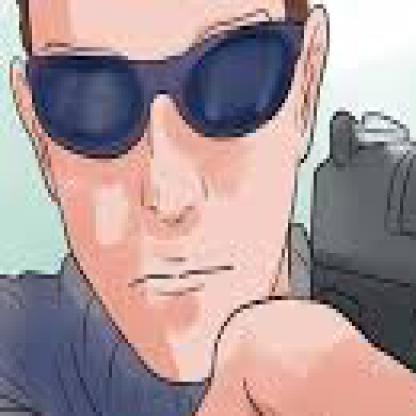gun: (285, 103, 413, 412)
